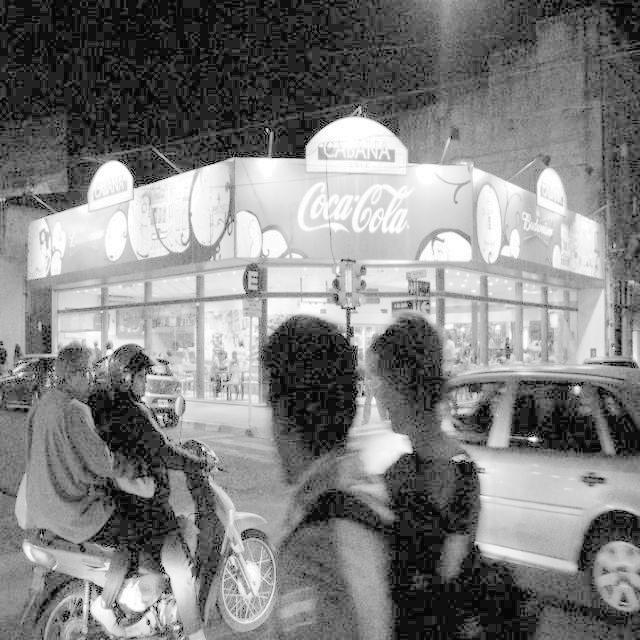Car: (345, 314, 640, 640)
Motorcycle: (8, 399, 283, 640)
